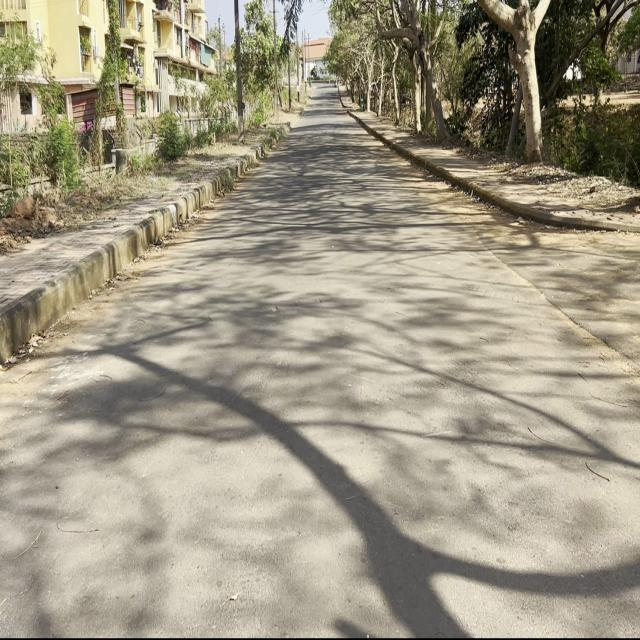Road: (3, 89, 636, 631)
